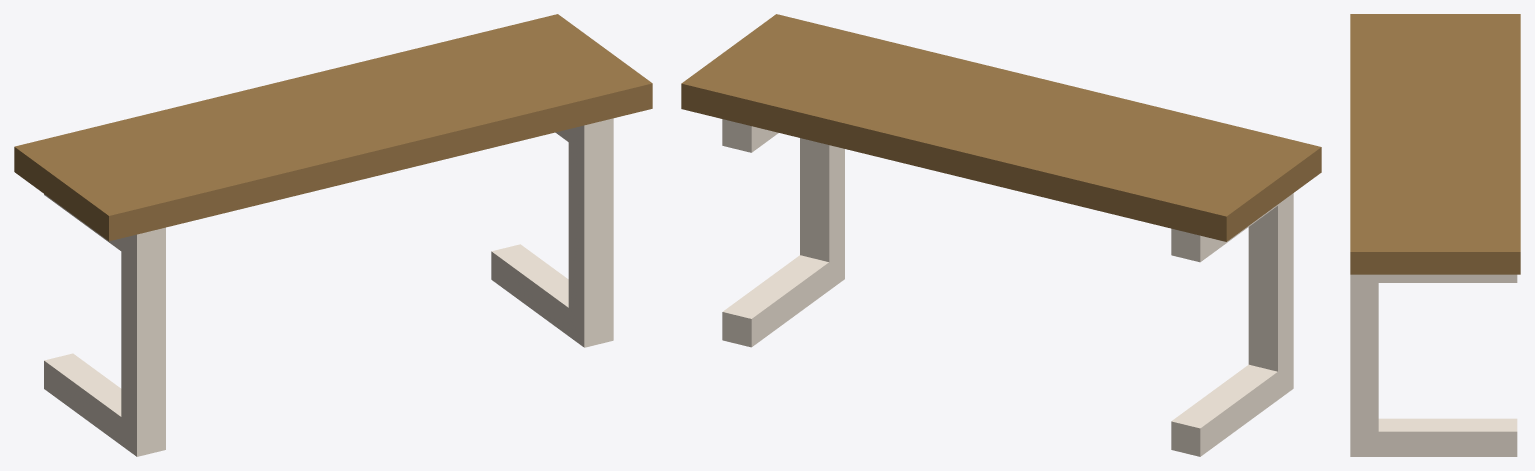
The model's file is table.fbx.
3 views of the same model, side by side, from view 1: azimuth 30°, elevation 25°; view 2: azimuth 150°, elevation 25°; view 3: azimuth 270°, elevation 25° (orthographic). The views are drawn at different scales.
Parts seen in each view (by area): view 1: Table; view 2: Table; view 3: Table.
Boxes of the visible parts, x1,y1,x2,y2 form: Table: (14, 14, 652, 456); Table: (681, 14, 1321, 456); Table: (1350, 14, 1520, 456).
Size of the model in its own units: 3237 by 1410 by 978.
